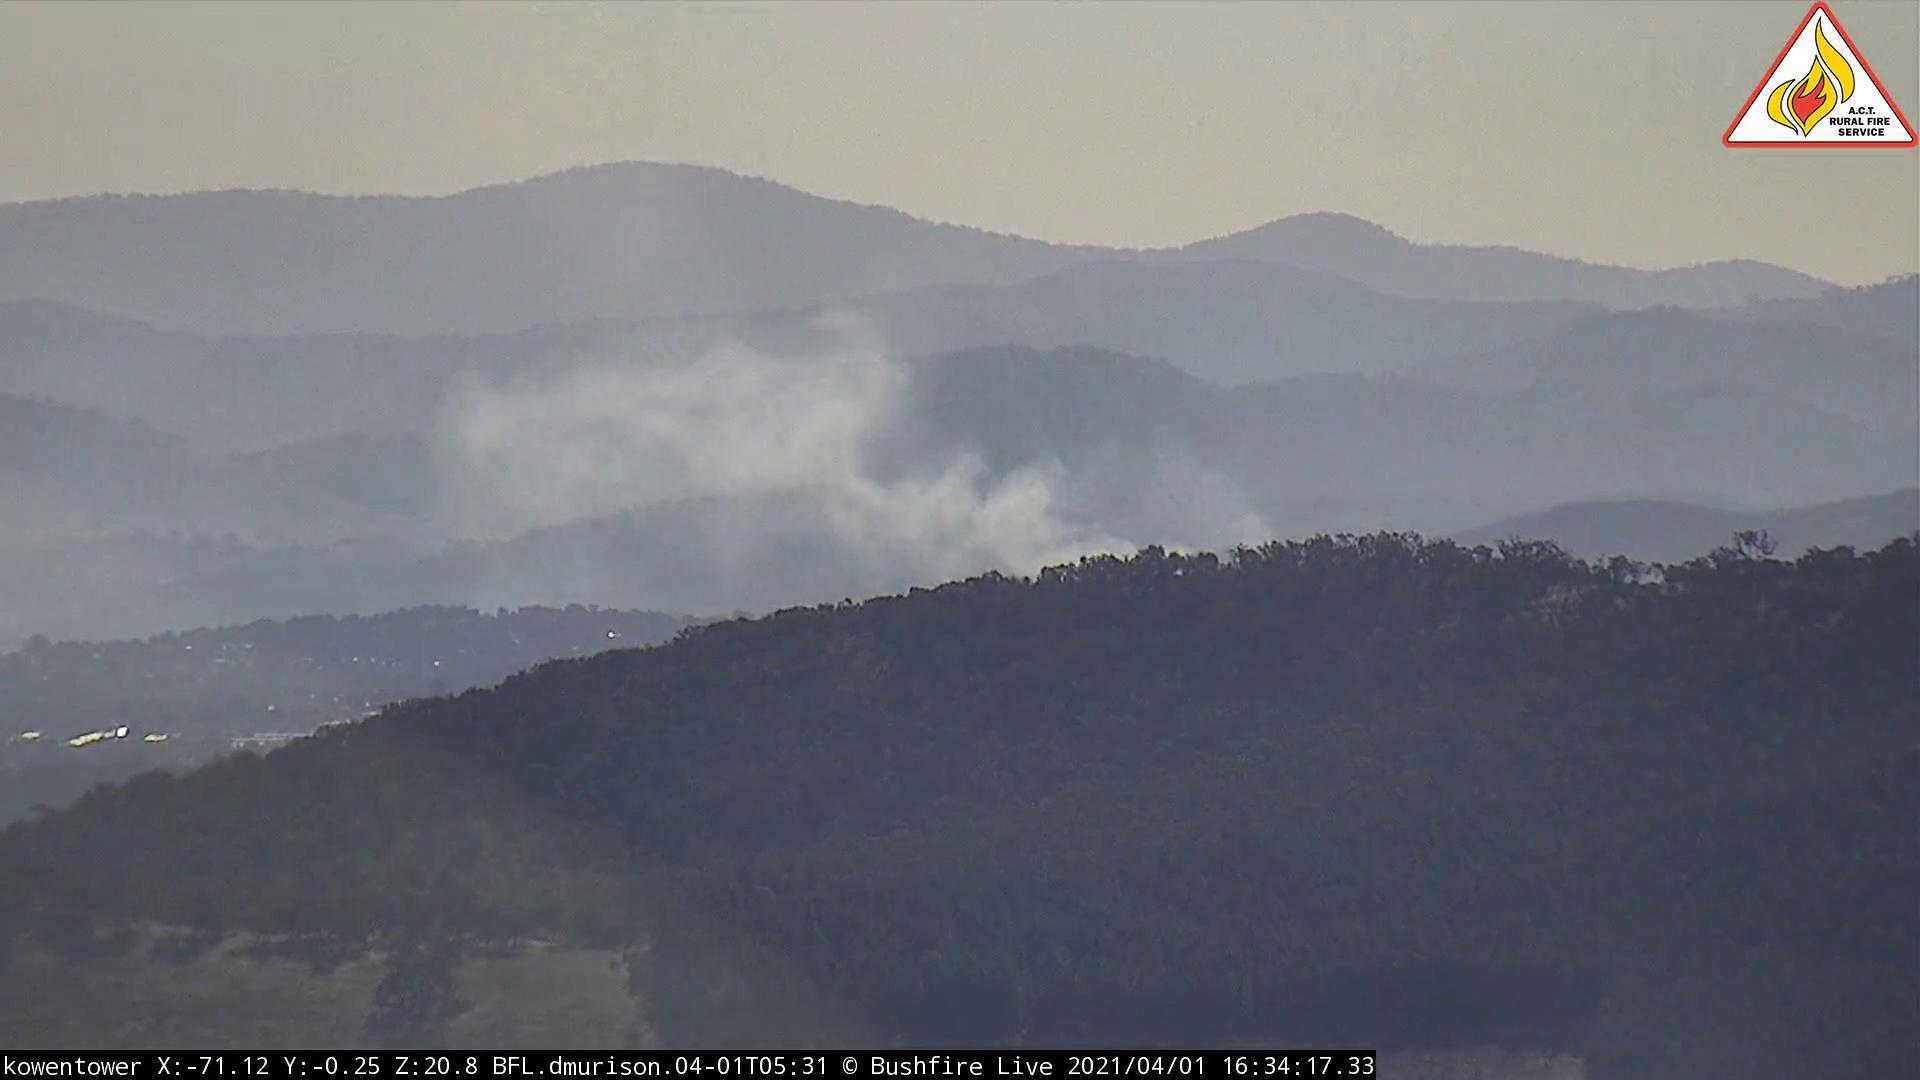Smoke: (406, 295, 1296, 673)
